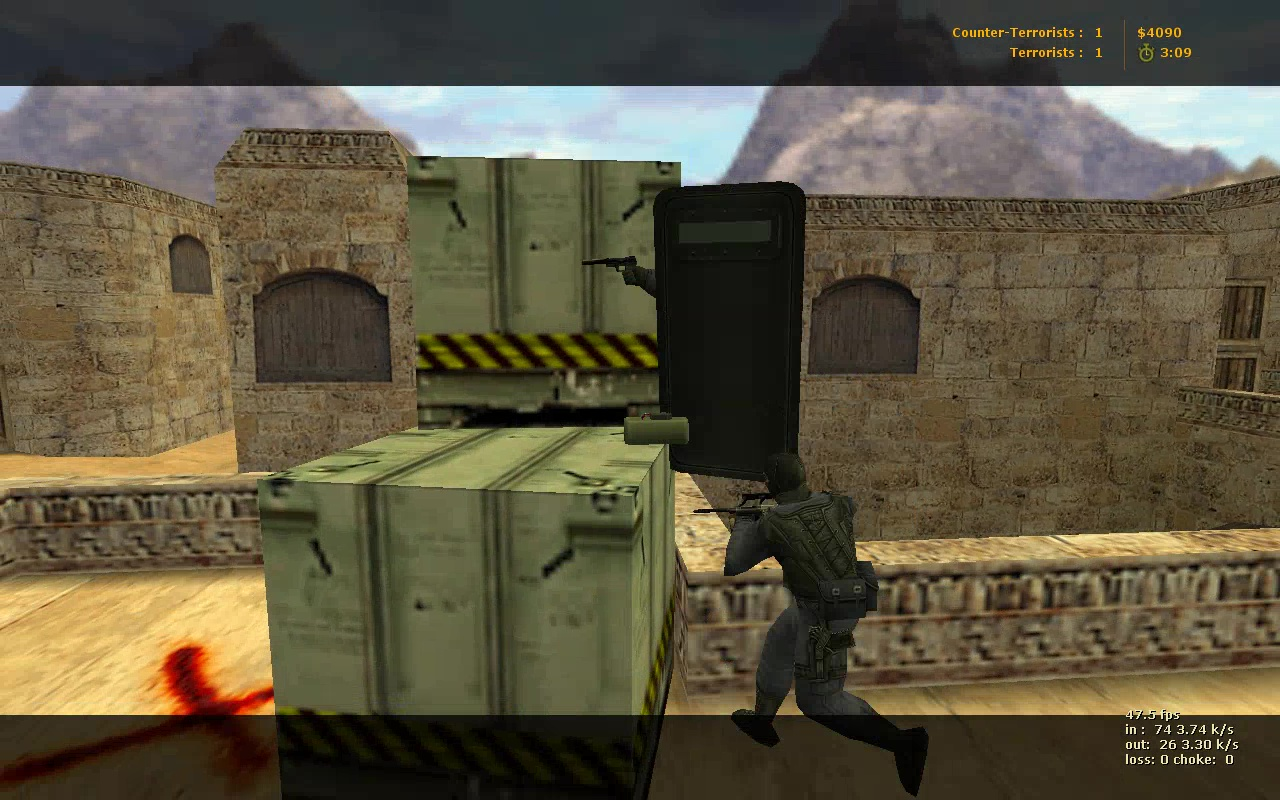ct: (720, 456, 938, 791)
